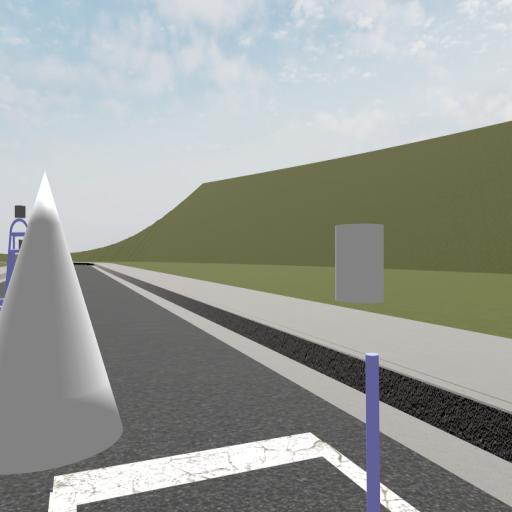ERP-42: (0, 205, 28, 312)
